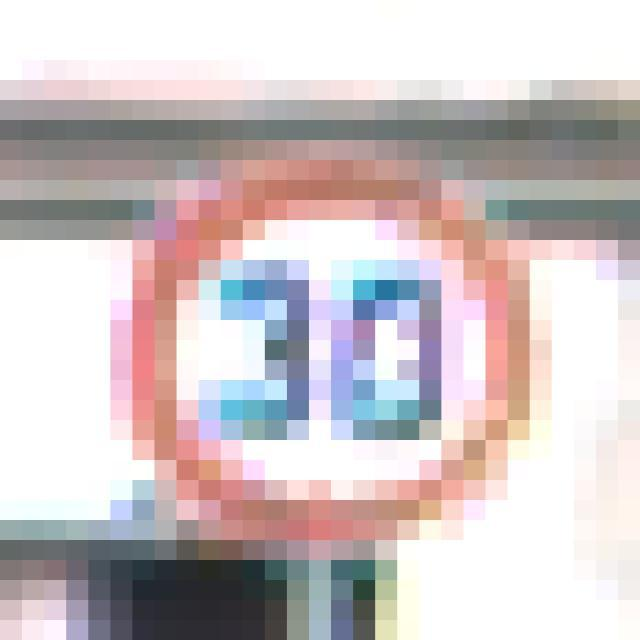Speed Limit -30-: (99, 90, 519, 530)
